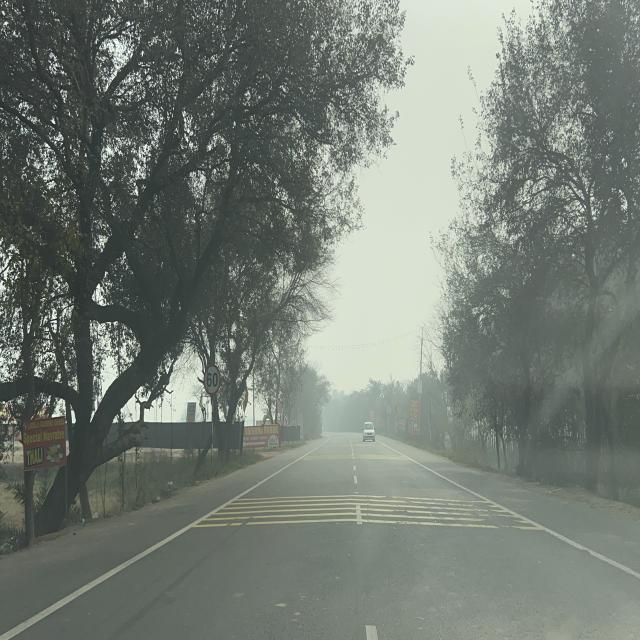SPEED_LIMIT_60: (203, 364, 221, 395)
TURN_LEFT: (394, 404, 398, 412)
